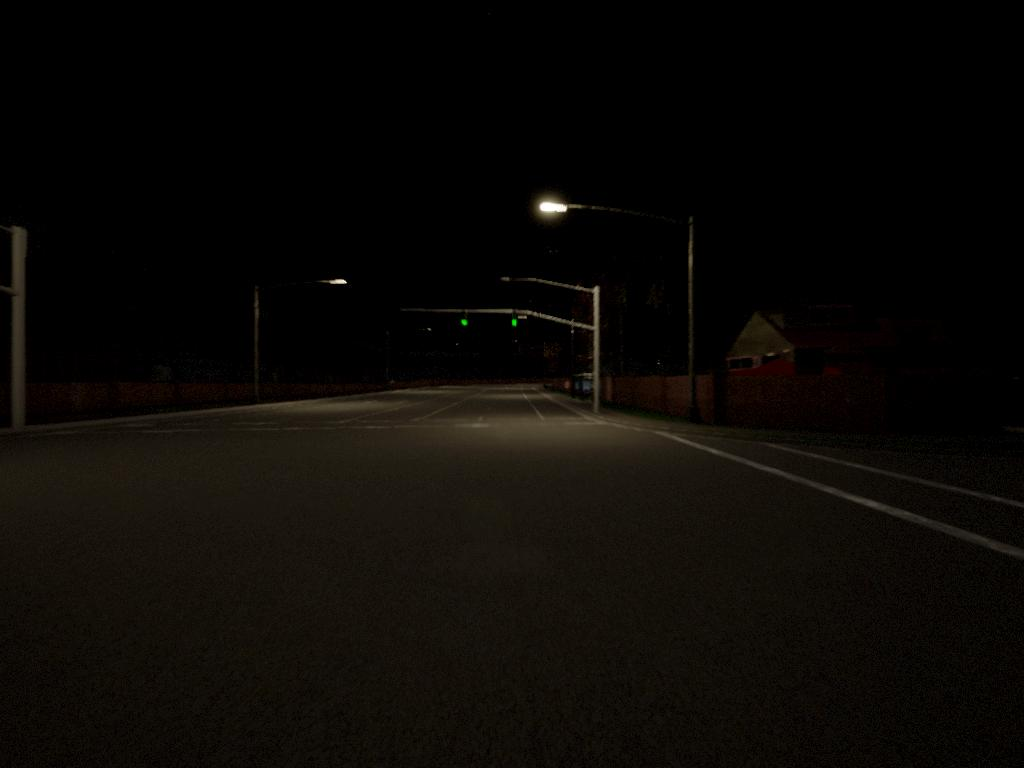traffic_light: (510, 316, 520, 331), (463, 316, 473, 330)
